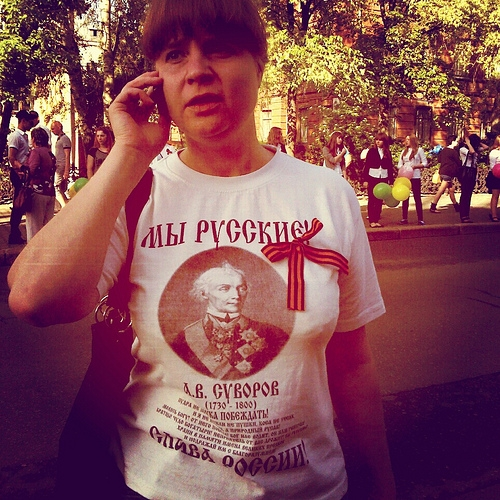phone: (127, 66, 157, 130)
talk: (106, 30, 259, 162)
